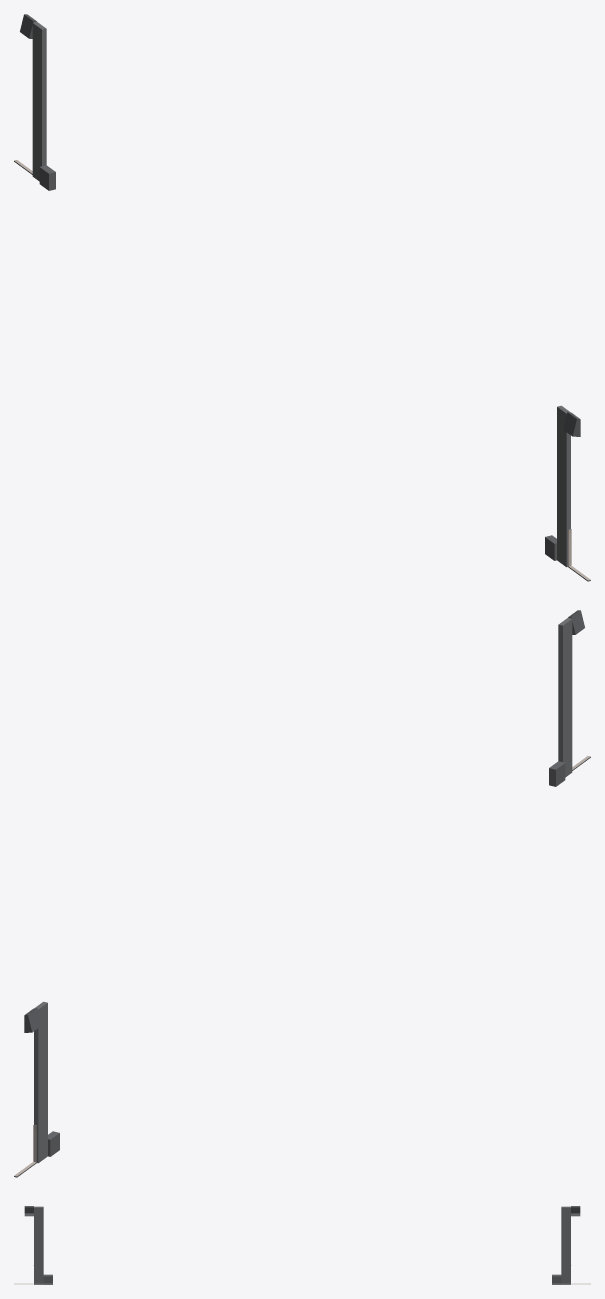
The model's file is kd_stage_135b75_4_72_bounded.glb.
3 views of the same model, one above another, from view 1: azimuth 30°, elevation 25°; view 2: azimuth 150°, elevation 25°; view 3: azimuth 270°, elevation 25° (orthographic). The views are drawn at different scales.
Visible parts, largest first — view 1: kd_stage_135b75_4_72_bounded; view 2: kd_stage_135b75_4_72_bounded; view 3: kd_stage_135b75_4_72_bounded.
Boxes of the visible parts, x1,y1,x2,y2 form: kd_stage_135b75_4_72_bounded: (14, 14, 590, 581); kd_stage_135b75_4_72_bounded: (14, 610, 590, 1177); kd_stage_135b75_4_72_bounded: (14, 1206, 590, 1284).
Bounding box in the file's own units: 0.0237 × 0.4512 × 3.03.
1 material, 1 textured.
